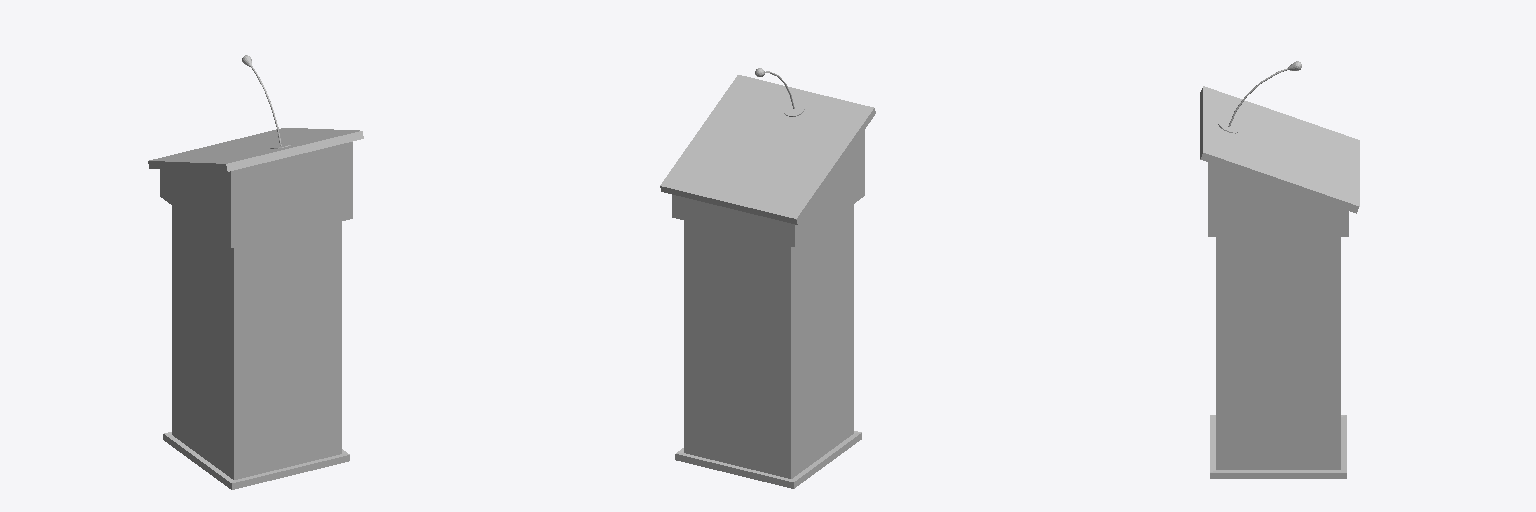
Rendered from podium.obj.
The picture shows the model from 3 angles: view 1: azimuth 30°, elevation 25°; view 2: azimuth 150°, elevation 25°; view 3: azimuth 270°, elevation 25°; orthographic projection.
Visible parts, largest first — view 1: Box001; view 2: Box001; view 3: Box001.
Boxes of the visible parts, <box> form: Box001: <box>148,128,363,489</box>; Box001: <box>660,75,875,488</box>; Box001: <box>1200,86,1359,478</box>.
Bounding box in the file's own units: 0.57 × 1.55 × 0.5768.